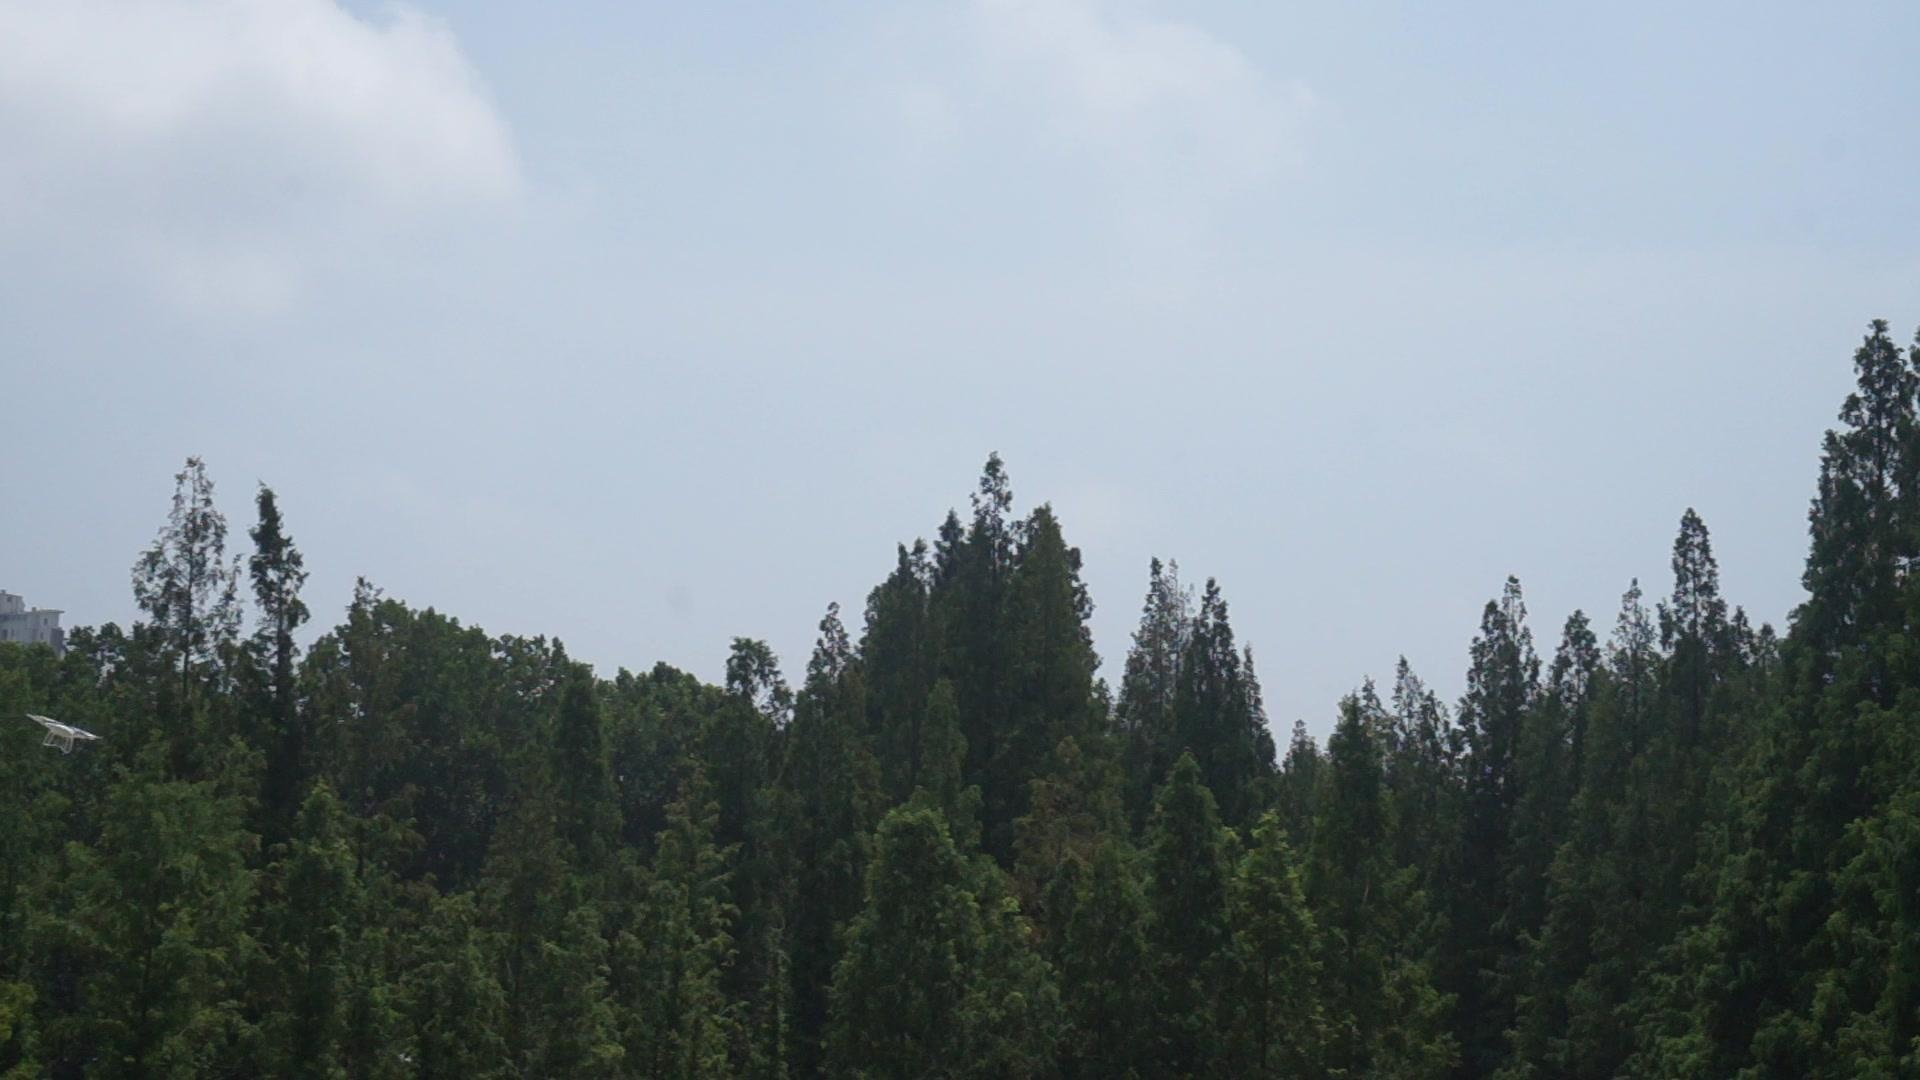UAV: (26, 713, 104, 756)
